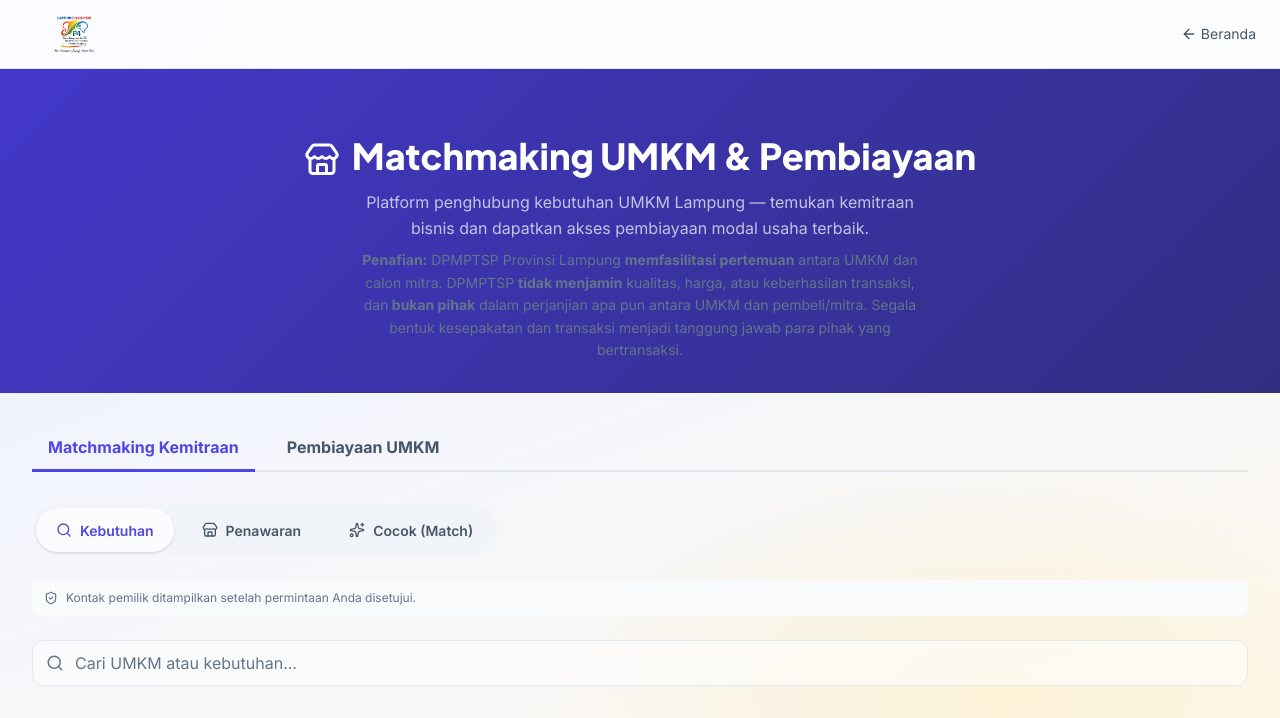
Test: UMKM publik: pemuatan listing/match (T6) › tab Cocok (Match) › match sukses tetapi kosong: tetap "Belum Ada Pasangan Match"
Click the button "Cocok (Match)" at (411, 530), box [329,508,493,552]
(page scrolled)
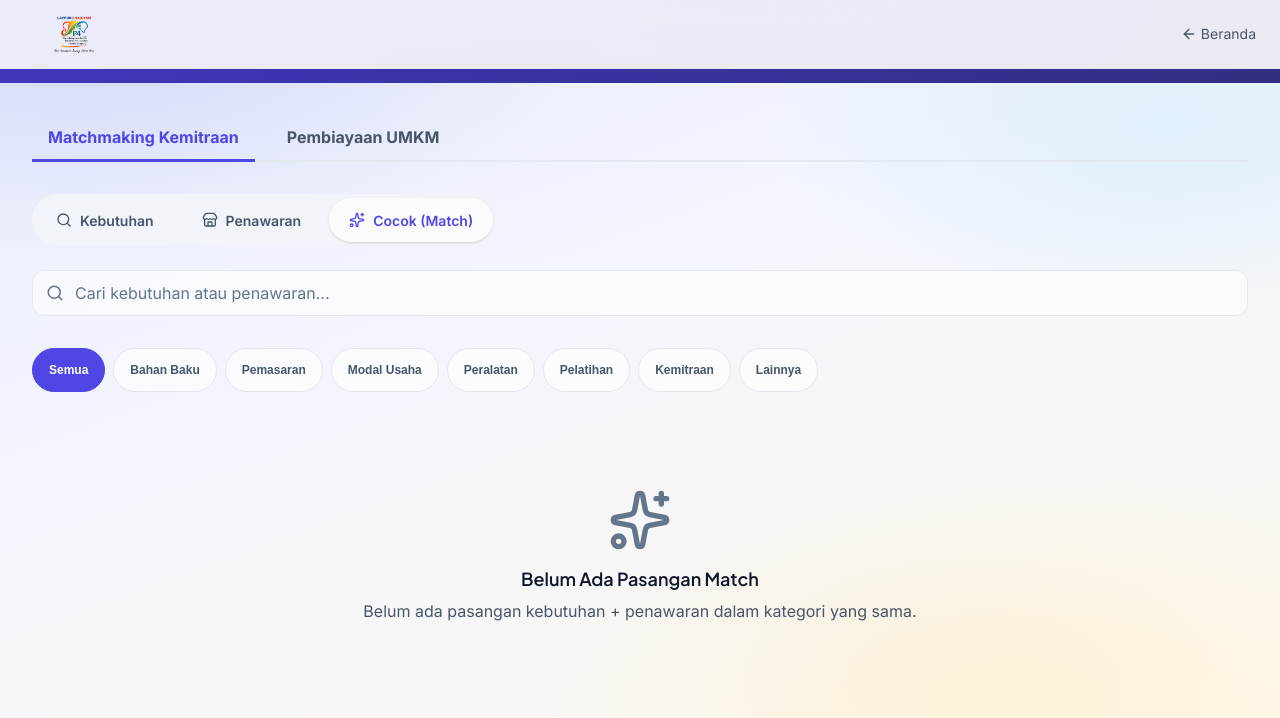
expect the heading "Belum Ada Pasangan Match" is shown: met, box [521,568,759,591]
